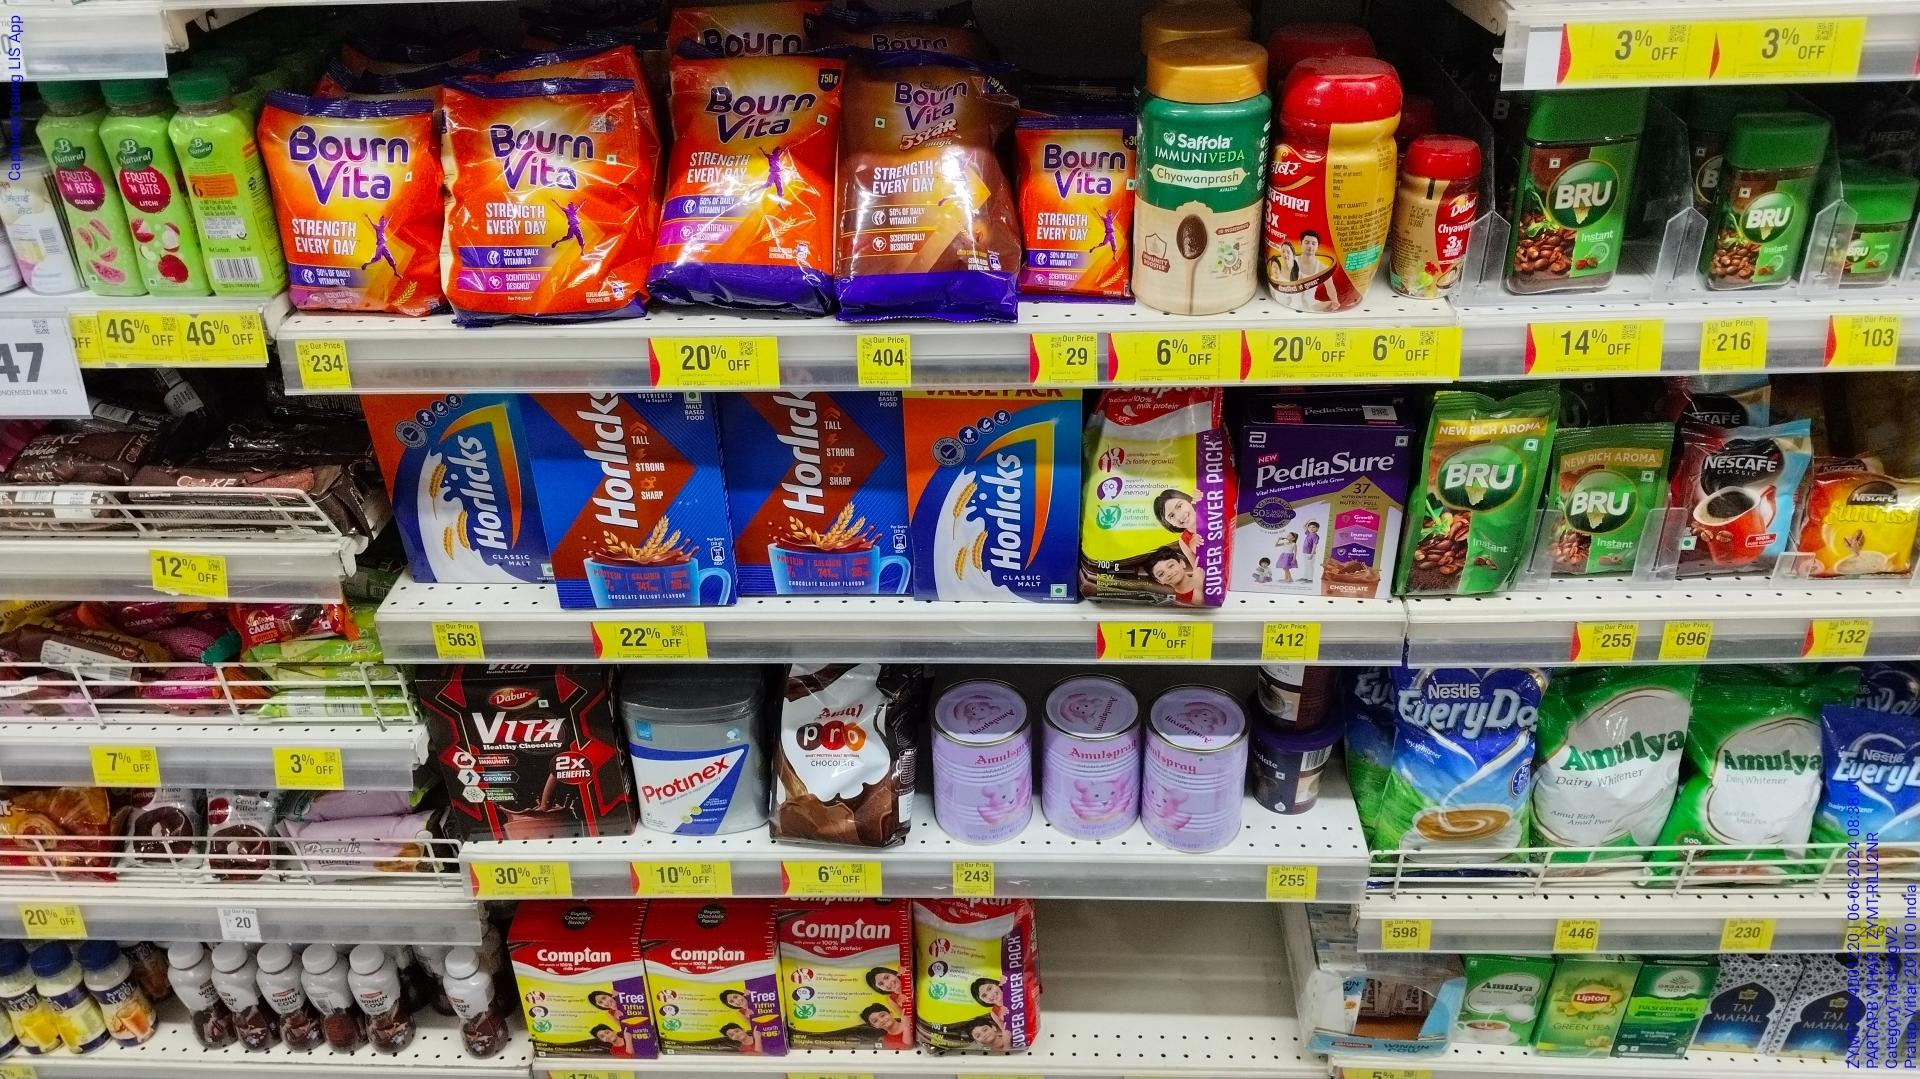BOURN_VITA_500_G_POUCH: (446, 88, 647, 313), (266, 95, 436, 315)
BOURN_VITA_750_G_POUCH: (653, 51, 840, 305)
BOURN_VITA_75_G_POUCH: (1034, 121, 1134, 301)
BOURN_VITA_FIVE_STAR_MAGIC_750_G_POUCH: (848, 55, 1026, 314)
COMPLAN_CHOCOLATE_200_GMS_PACK: (783, 913, 910, 1053), (513, 943, 650, 1058), (654, 952, 779, 1061)
HORLICK_CHOCOLATE_1_KG_PACK: (534, 400, 735, 609), (736, 392, 907, 595)
PEDIASURE_CHOCOLATE_500_G_PACK: (1238, 425, 1396, 603)
